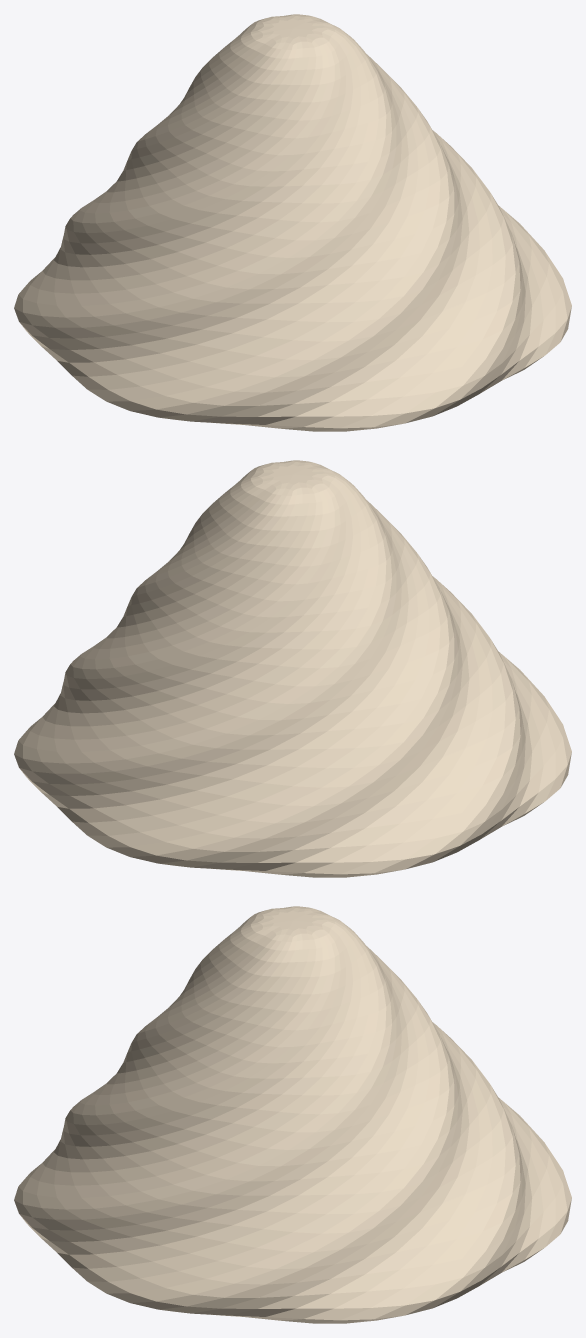
File: CreamSwirl.fbx
3 renders of one model, top to bottom at view 1: azimuth 30°, elevation 25°; view 2: azimuth 150°, elevation 25°; view 3: azimuth 270°, elevation 25°, orthographic.
Parts seen in each view (by area): view 1: Cylinder; view 2: Cylinder; view 3: Cylinder.
Part boxes in pixels (x1,y1,x2,y2): Cylinder: (14,14,571,431); Cylinder: (14,460,571,877); Cylinder: (14,906,571,1323).
Size of the model in its own units: 316 by 200 by 333.
